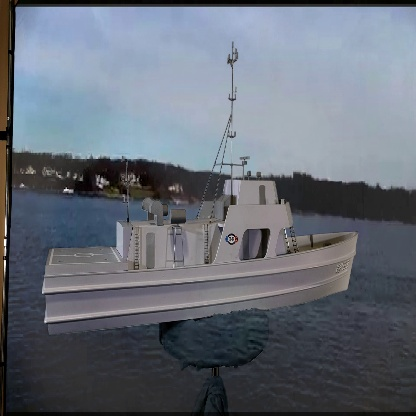YP689: (41, 40, 360, 338)
